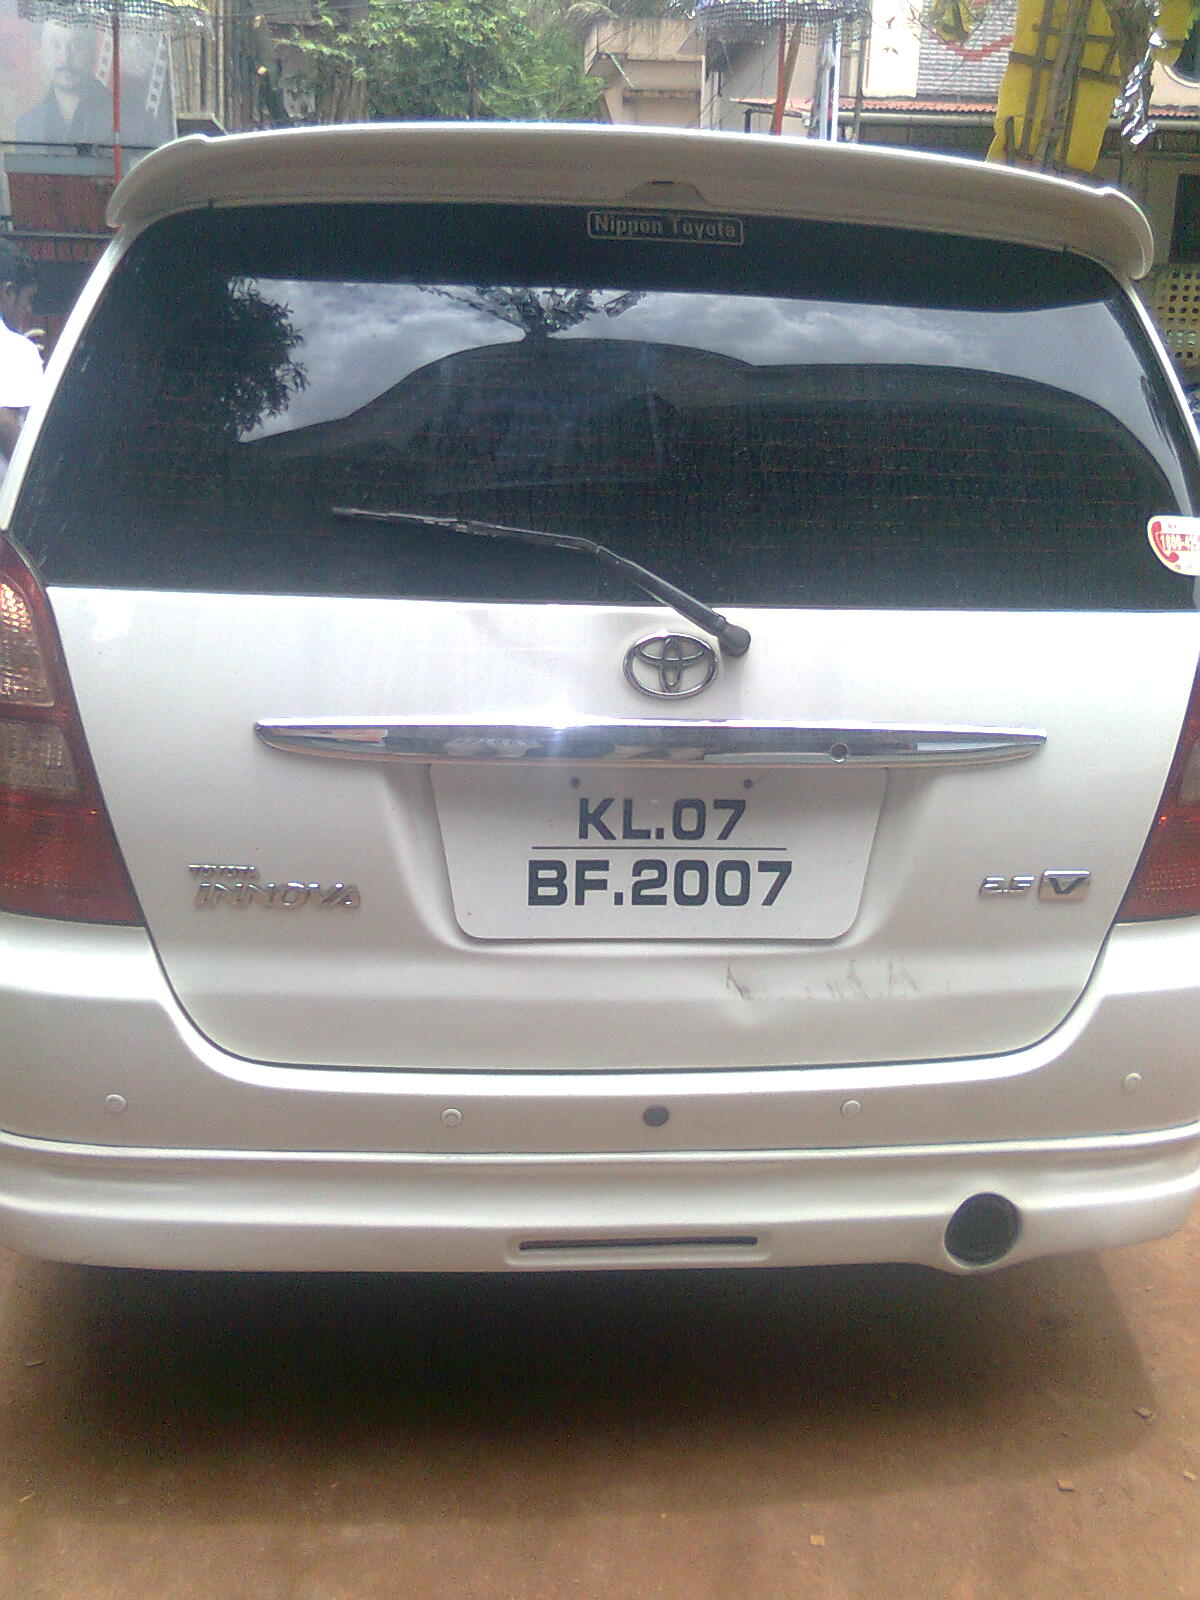number_plate: (444, 759, 851, 963)
